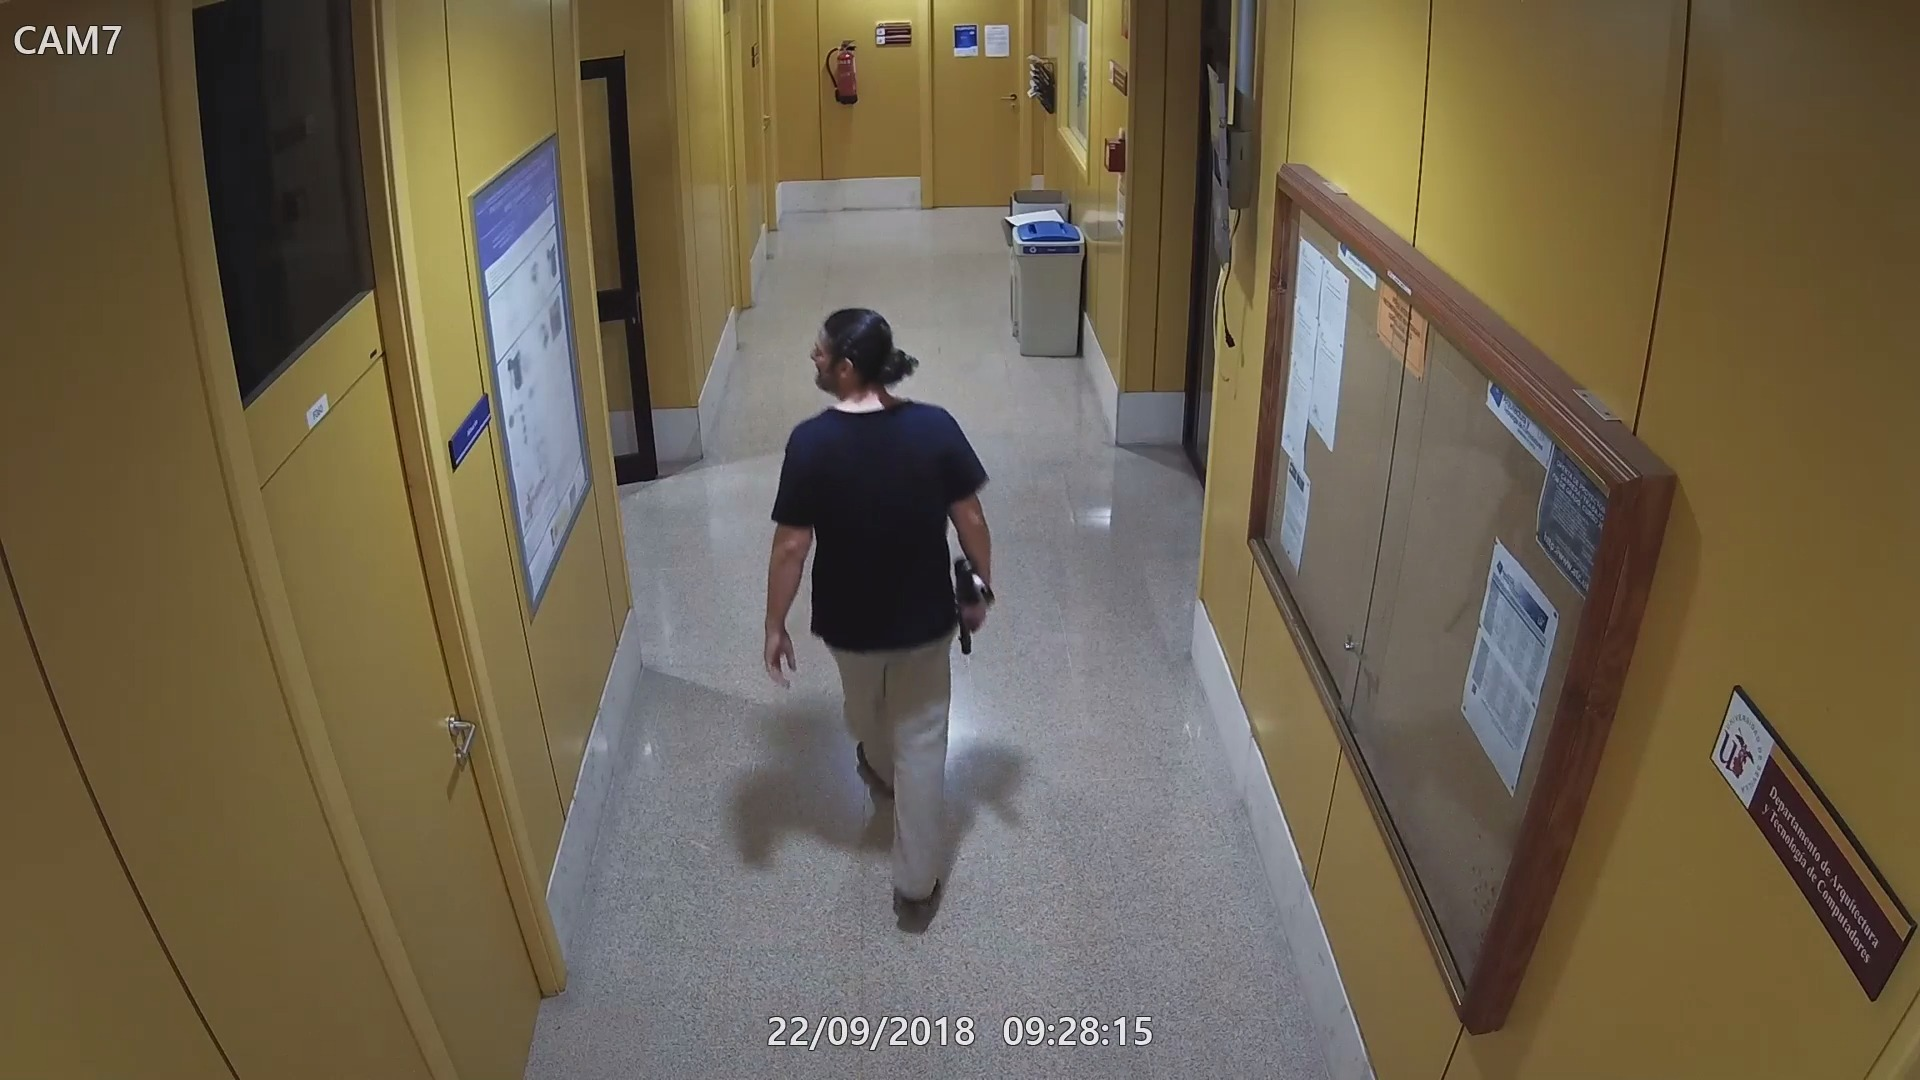Short_rifle: (955, 543, 996, 659)
